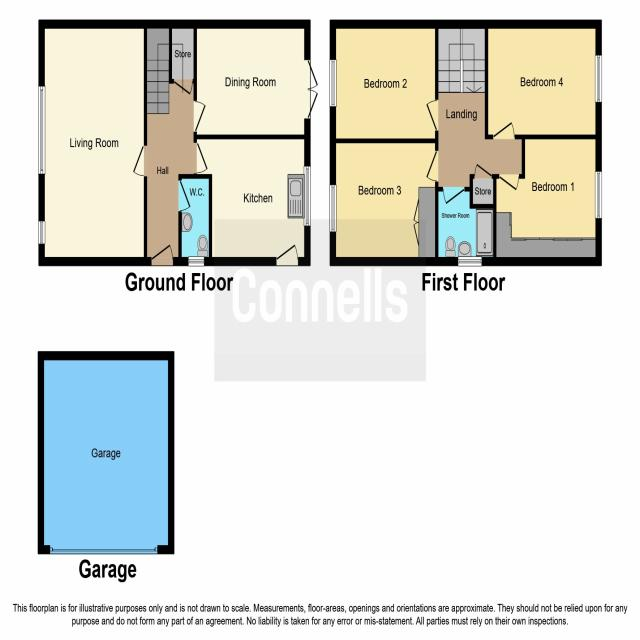DOOR: (487, 113, 518, 140), (129, 136, 147, 181), (148, 239, 176, 266), (422, 142, 439, 186), (274, 240, 301, 266), (423, 95, 439, 133), (495, 174, 522, 196), (194, 139, 210, 176), (193, 99, 208, 135)
DOUBLE DOOR: (304, 50, 322, 120)
ROOM: (38, 20, 148, 267), (481, 135, 602, 267), (193, 19, 325, 139), (194, 133, 311, 267), (484, 18, 602, 140), (330, 137, 438, 265), (330, 20, 438, 142)
WINDOW: (37, 82, 47, 177), (302, 161, 314, 231), (592, 49, 605, 106), (592, 166, 605, 223), (327, 180, 340, 235), (327, 53, 339, 110), (37, 218, 47, 246), (187, 255, 205, 268)
